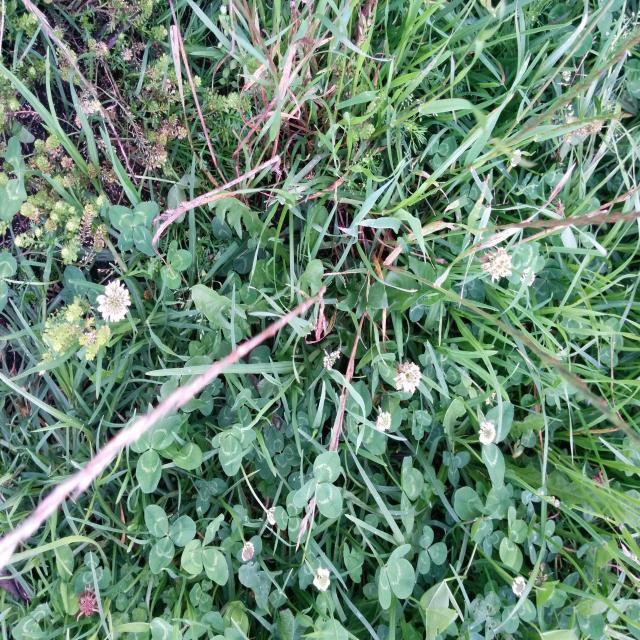Four Leaf Clover: (109, 200, 158, 257)
